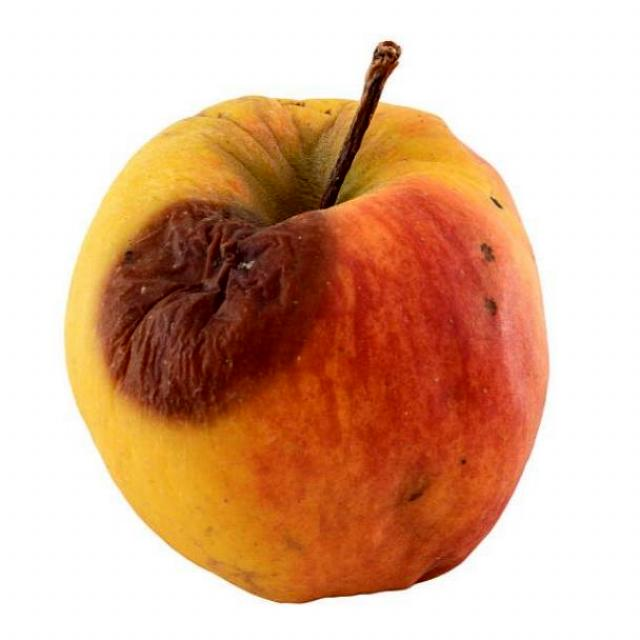ROT: (58, 68, 554, 594)
